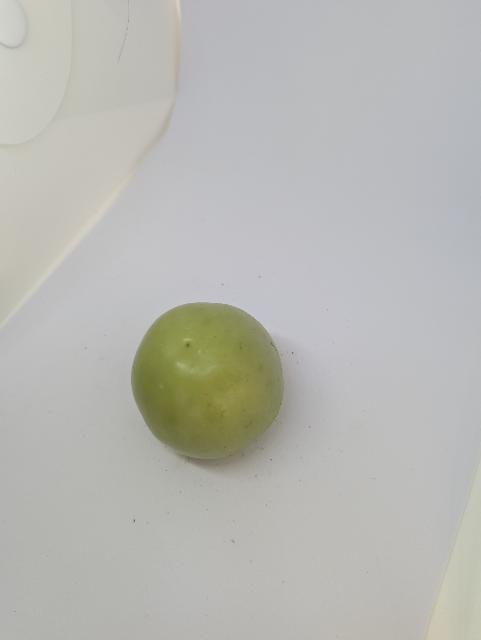green: (113, 296, 304, 475)
